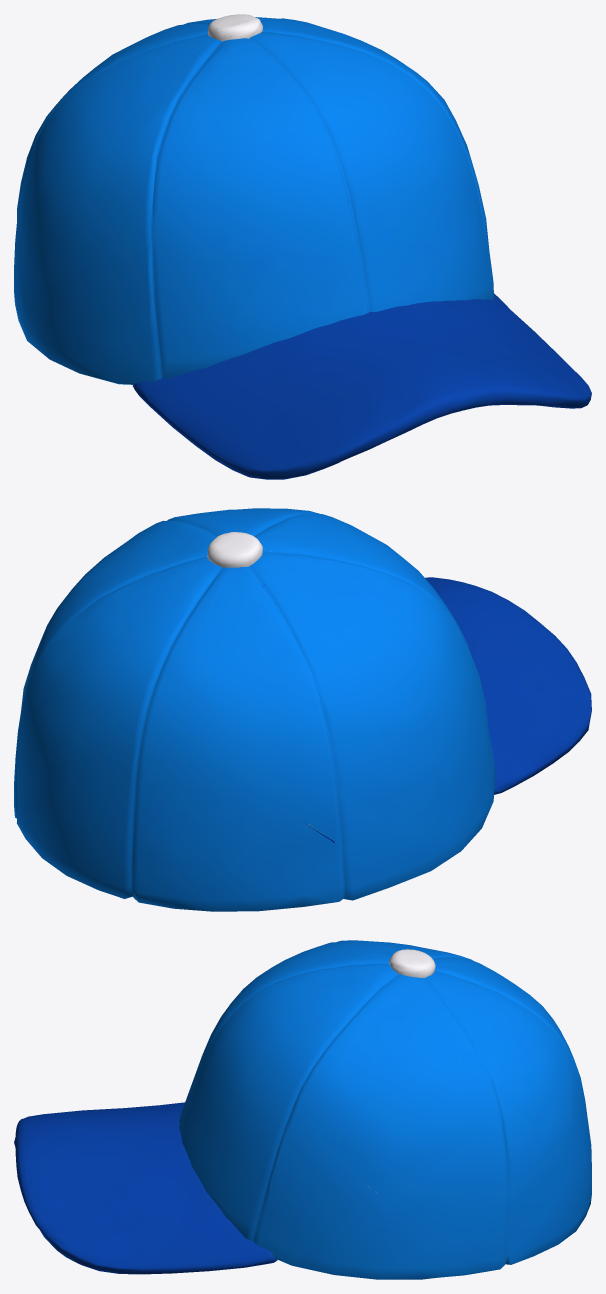
Rendered from hat_cap.glb.
3 views of the same model, one above another, from view 1: azimuth 30°, elevation 25°; view 2: azimuth 150°, elevation 25°; view 3: azimuth 270°, elevation 25° (orthographic). The views are drawn at different scales.
Parts seen in each view (by area): view 1: geometry_0; view 2: geometry_0; view 3: geometry_0.
Part boxes in pixels (x1,y1,x2,y2): geometry_0: [14, 14, 591, 479]; geometry_0: [14, 508, 591, 911]; geometry_0: [14, 940, 591, 1279].
Bounding box in the file's own units: 0.6782 × 0.4492 × 0.9526.
1 material, 1 textured.
